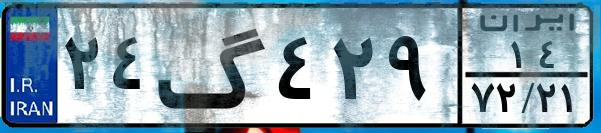1: (560, 70, 590, 125), (508, 27, 537, 80)
2: (330, 28, 385, 110), (57, 26, 110, 100), (495, 70, 520, 125), (535, 70, 560, 125)
4: (270, 28, 330, 110), (110, 28, 156, 98), (537, 27, 568, 80)
7: (470, 70, 495, 125)
9: (385, 28, 445, 110)
گ: (156, 12, 270, 120)
